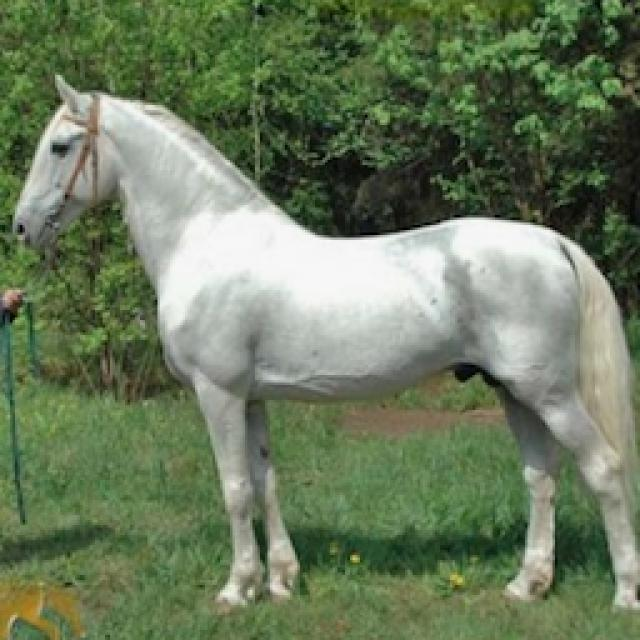Horse: (0, 68, 638, 620)
